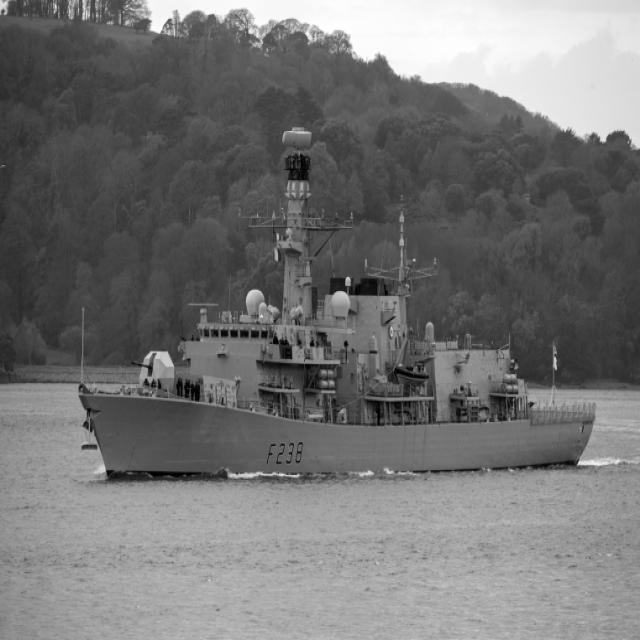Fragata: (79, 123, 599, 489)
